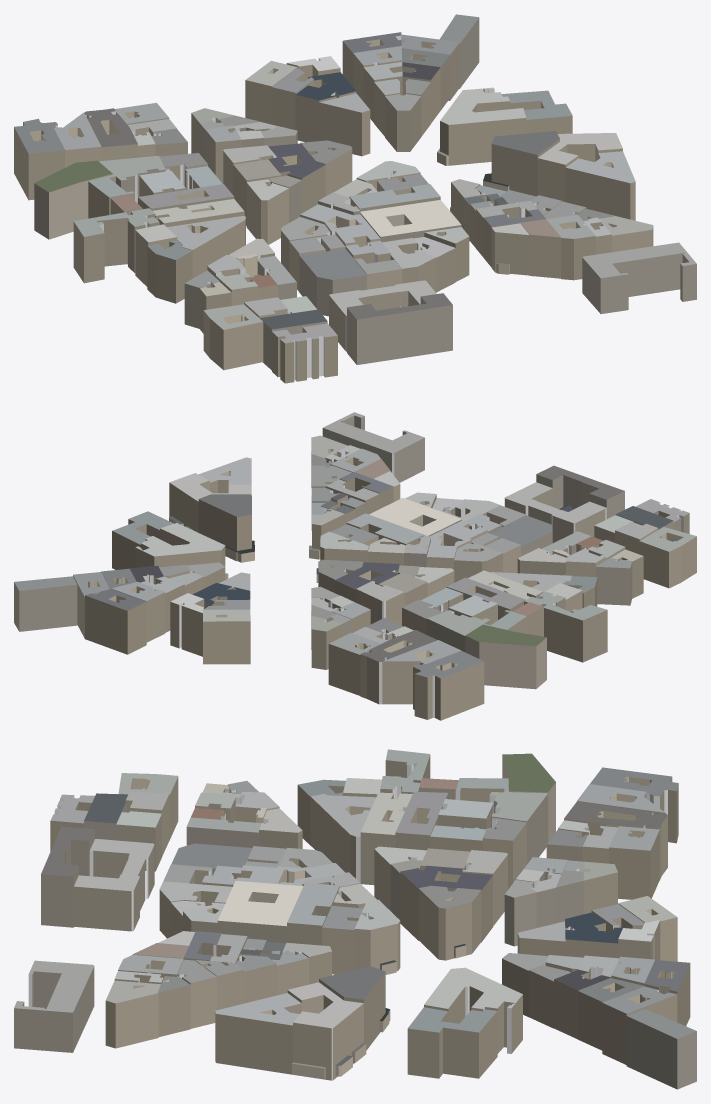
3 renders of one model, top to bottom at view 1: azimuth 30°, elevation 25°; view 2: azimuth 150°, elevation 25°; view 3: azimuth 270°, elevation 25°, orthographic. The views are drawn at different scales.
Visible parts, largest first — view 1: tuile; view 2: tuile; view 3: tuile.
Part boxes in pixels (x1,y1,x2,y2): tuile: (14, 14, 696, 383); tuile: (14, 412, 696, 720); tuile: (14, 749, 696, 1089).
Bounding box in the file's own units: 279 × 30.3 × 281.
